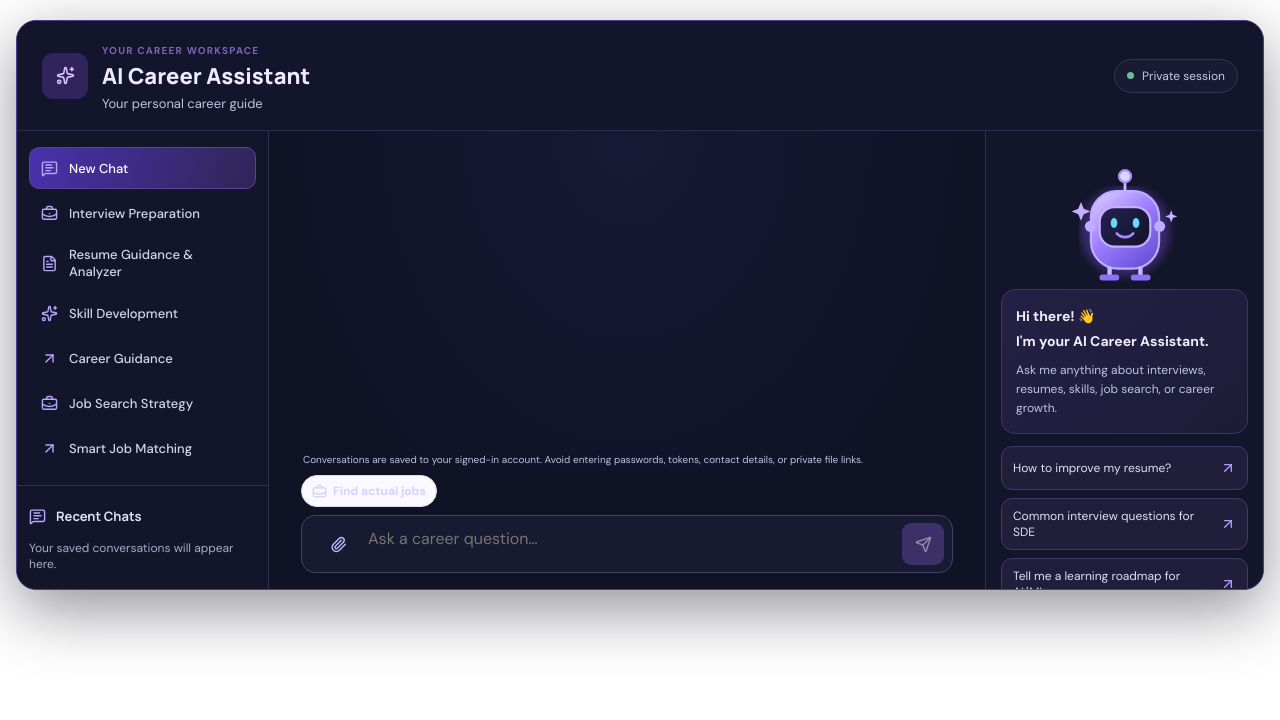
CareerAssistant › renders assistant Markdown headings, paragraphs, emphasis, lists, and safe external links
This screenshot has width=1280, height=720.
Step 1. Type "Give me a plan" into the text box named "Message the career assistant" → (630, 544), box x1=366 y1=525 x2=895 y2=563
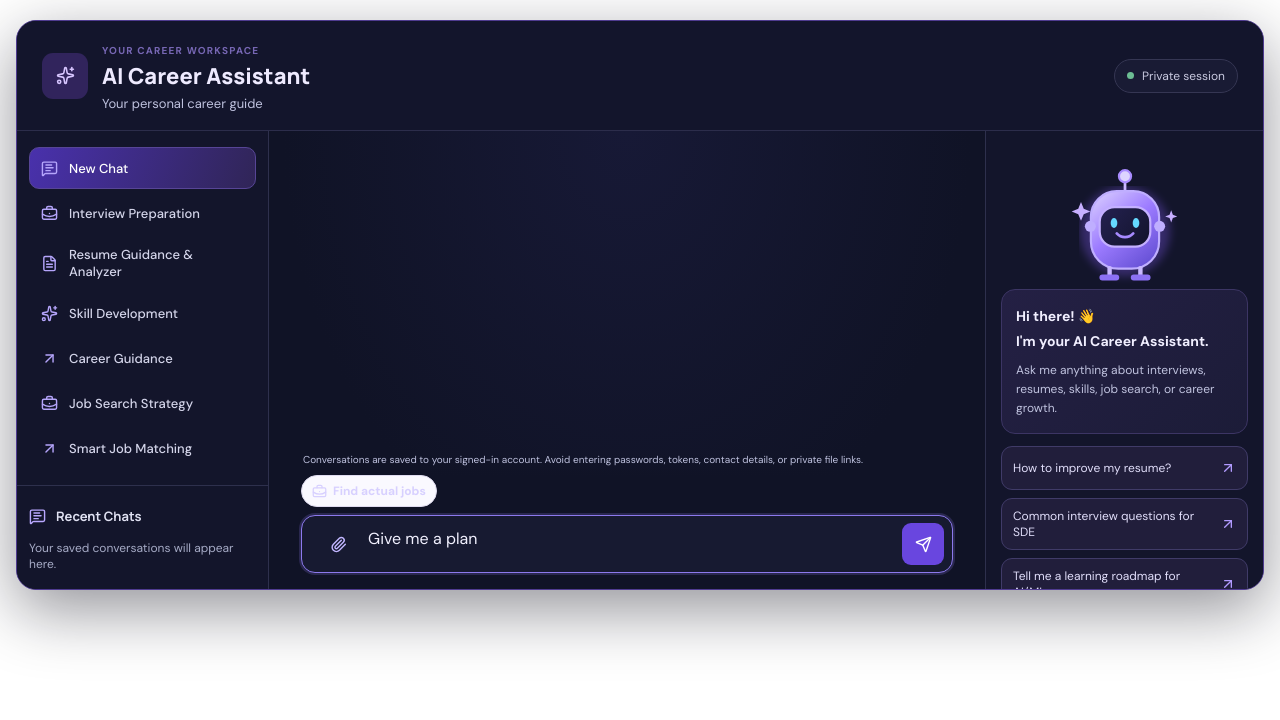
Step 2. Press Enter
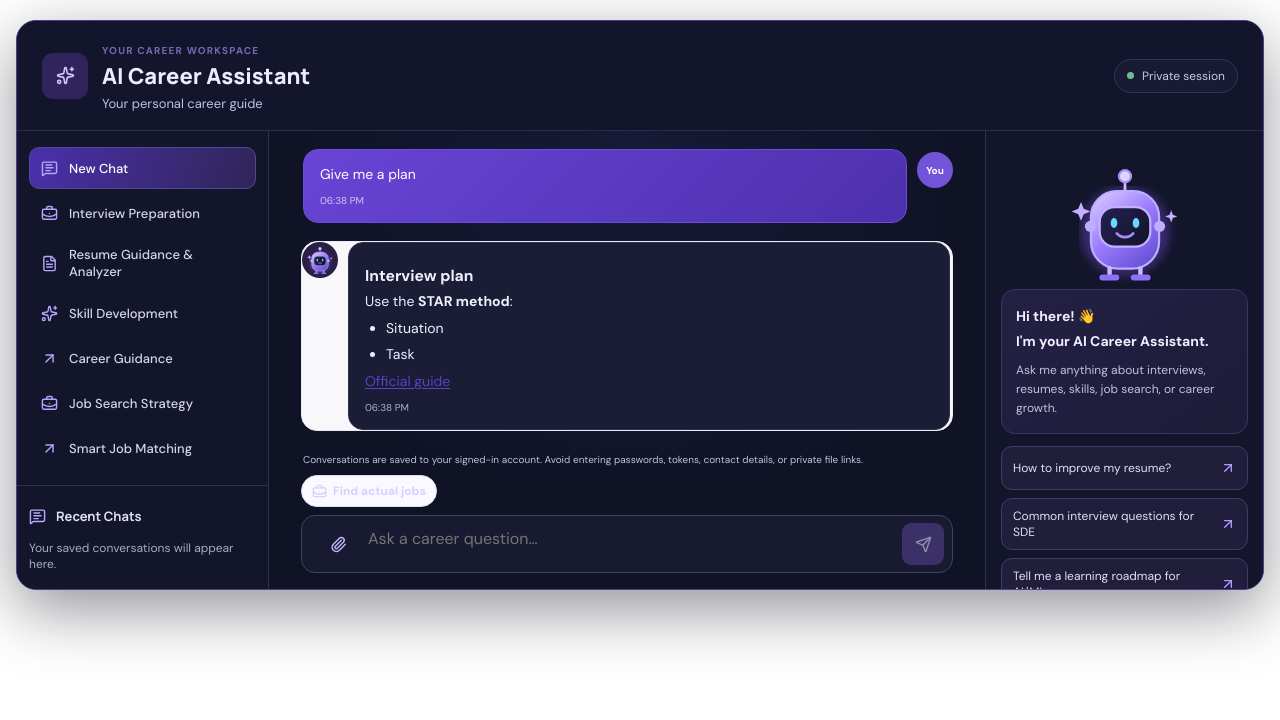
expect the text "STAR method" is shown: met, box x1=418 y1=292 x2=510 y2=310
expect the number of list items is 2: met, box x1=386 y1=319 x2=444 y2=337; x1=386 y1=344 x2=414 y2=362
